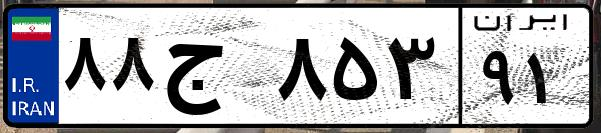1: (525, 38, 570, 115)
3: (385, 28, 445, 110)
5: (330, 28, 385, 110)
8: (270, 28, 330, 110), (57, 26, 110, 100), (110, 28, 158, 98)
9: (475, 38, 525, 113)
ج: (158, 20, 270, 120)
